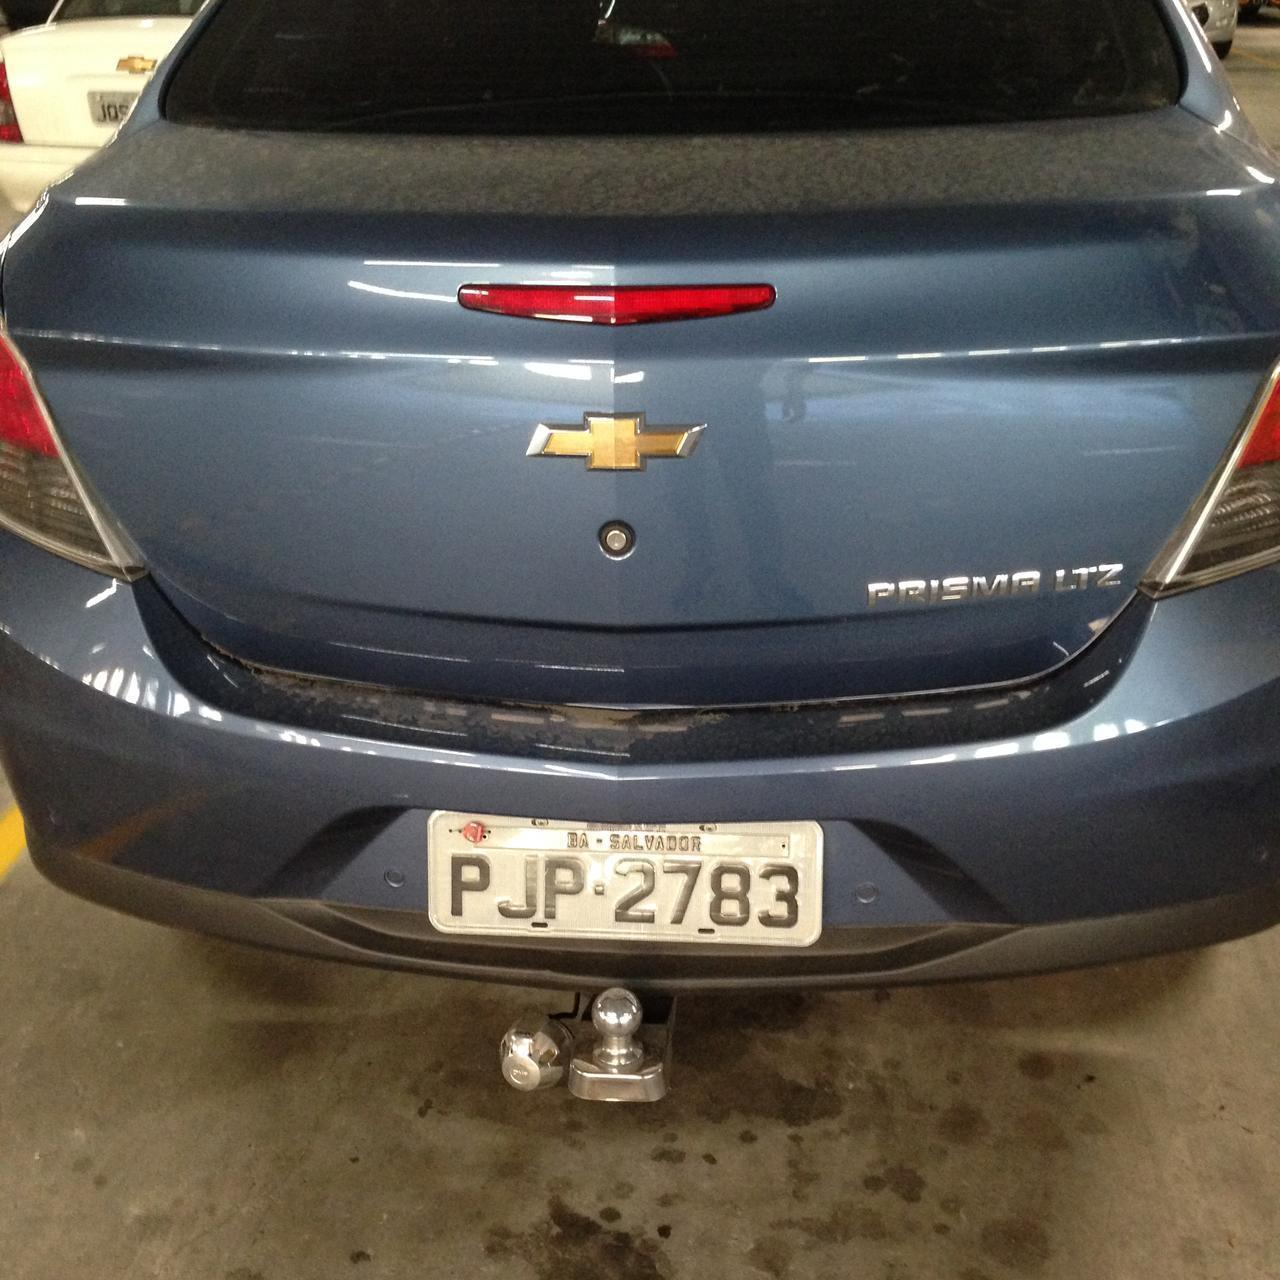placa de veiculo: (399, 806, 848, 973)
